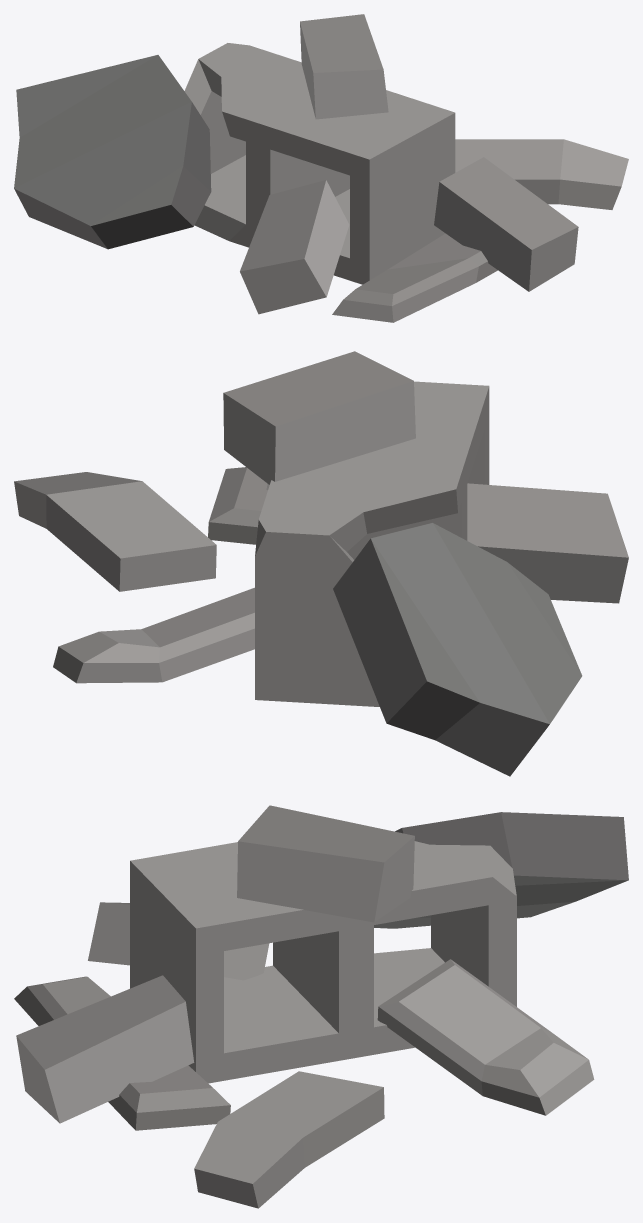
Rendered from SM_Prop_Rubble_Pile_02.fbx.
3 views of the same model, one above another, from view 1: azimuth 30°, elevation 25°; view 2: azimuth 150°, elevation 25°; view 3: azimuth 270°, elevation 25° (orthographic). The views are drawn at different scales.
Visible parts, largest first — view 1: SM_Prop_Rubble_Pile_02; view 2: SM_Prop_Rubble_Pile_02; view 3: SM_Prop_Rubble_Pile_02.
Part boxes in pixels (x1=…): SM_Prop_Rubble_Pile_02: x1=14, y1=14, x2=628, y2=322; SM_Prop_Rubble_Pile_02: x1=14, y1=351, x2=628, y2=776; SM_Prop_Rubble_Pile_02: x1=14, y1=805, x2=628, y2=1208.
Size of the model in its own units: 90.76 by 31.48 by 76.86.
